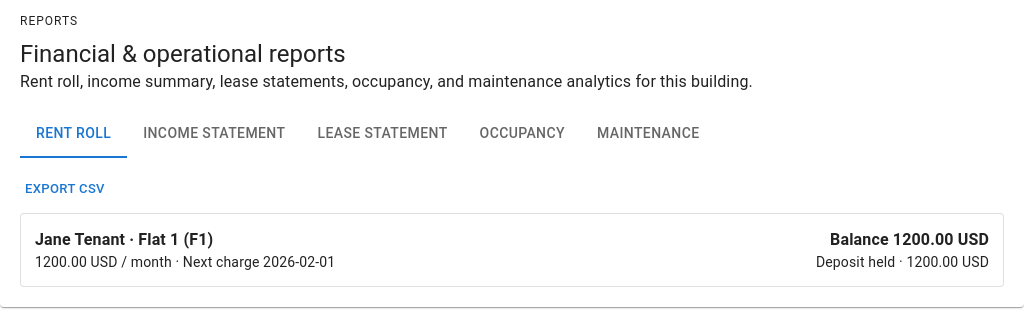
prompts to select a lease on the statement tab before fetching
Click the tab "Lease statement": (382, 134) x1=301 y1=110 x2=464 y2=158
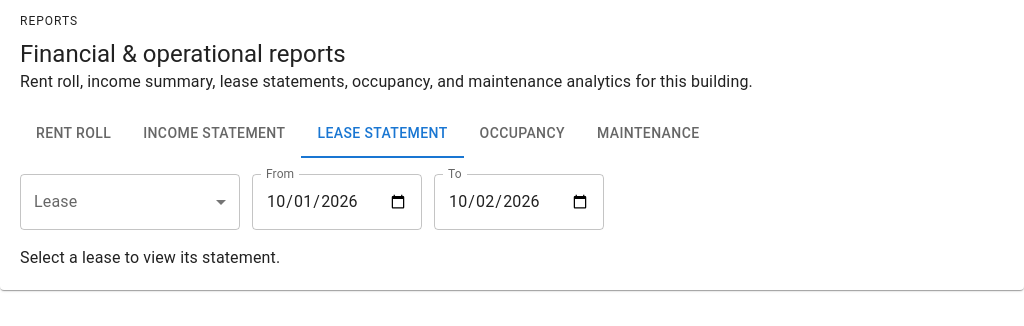
Expected: the text "Select a lease to view its statement." is shown, x1=20 y1=248 x2=280 y2=267
